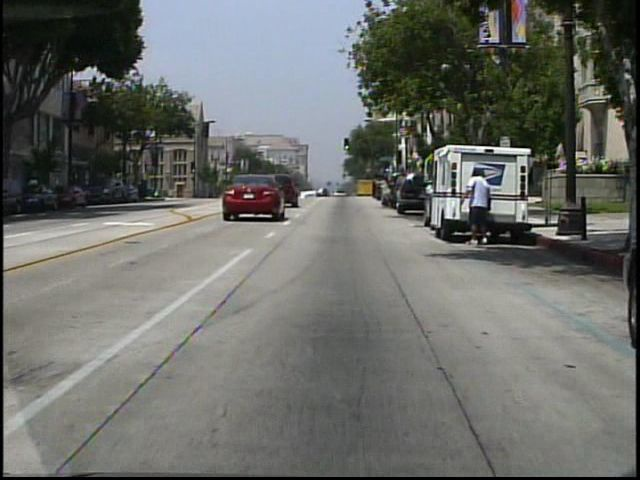person: (458, 167, 495, 246), (375, 172, 395, 210)
